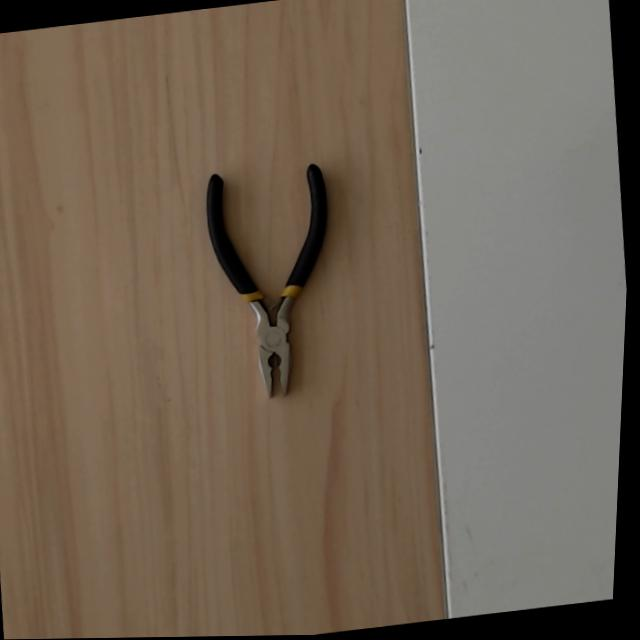Tang-Jepit-Hitam: (203, 160, 341, 400)
